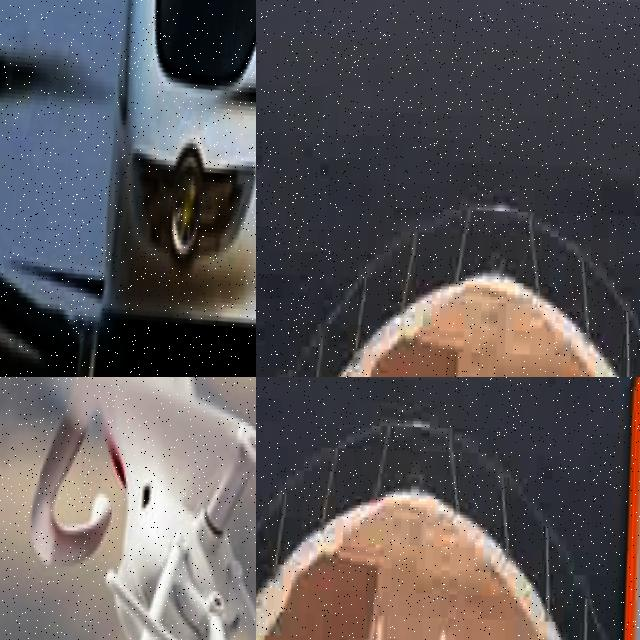drone: (0, 0, 256, 377), (0, 377, 256, 640)
